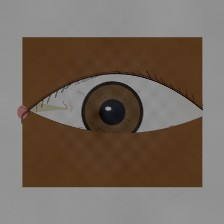pterygium_lesion: (22, 90, 76, 134)
